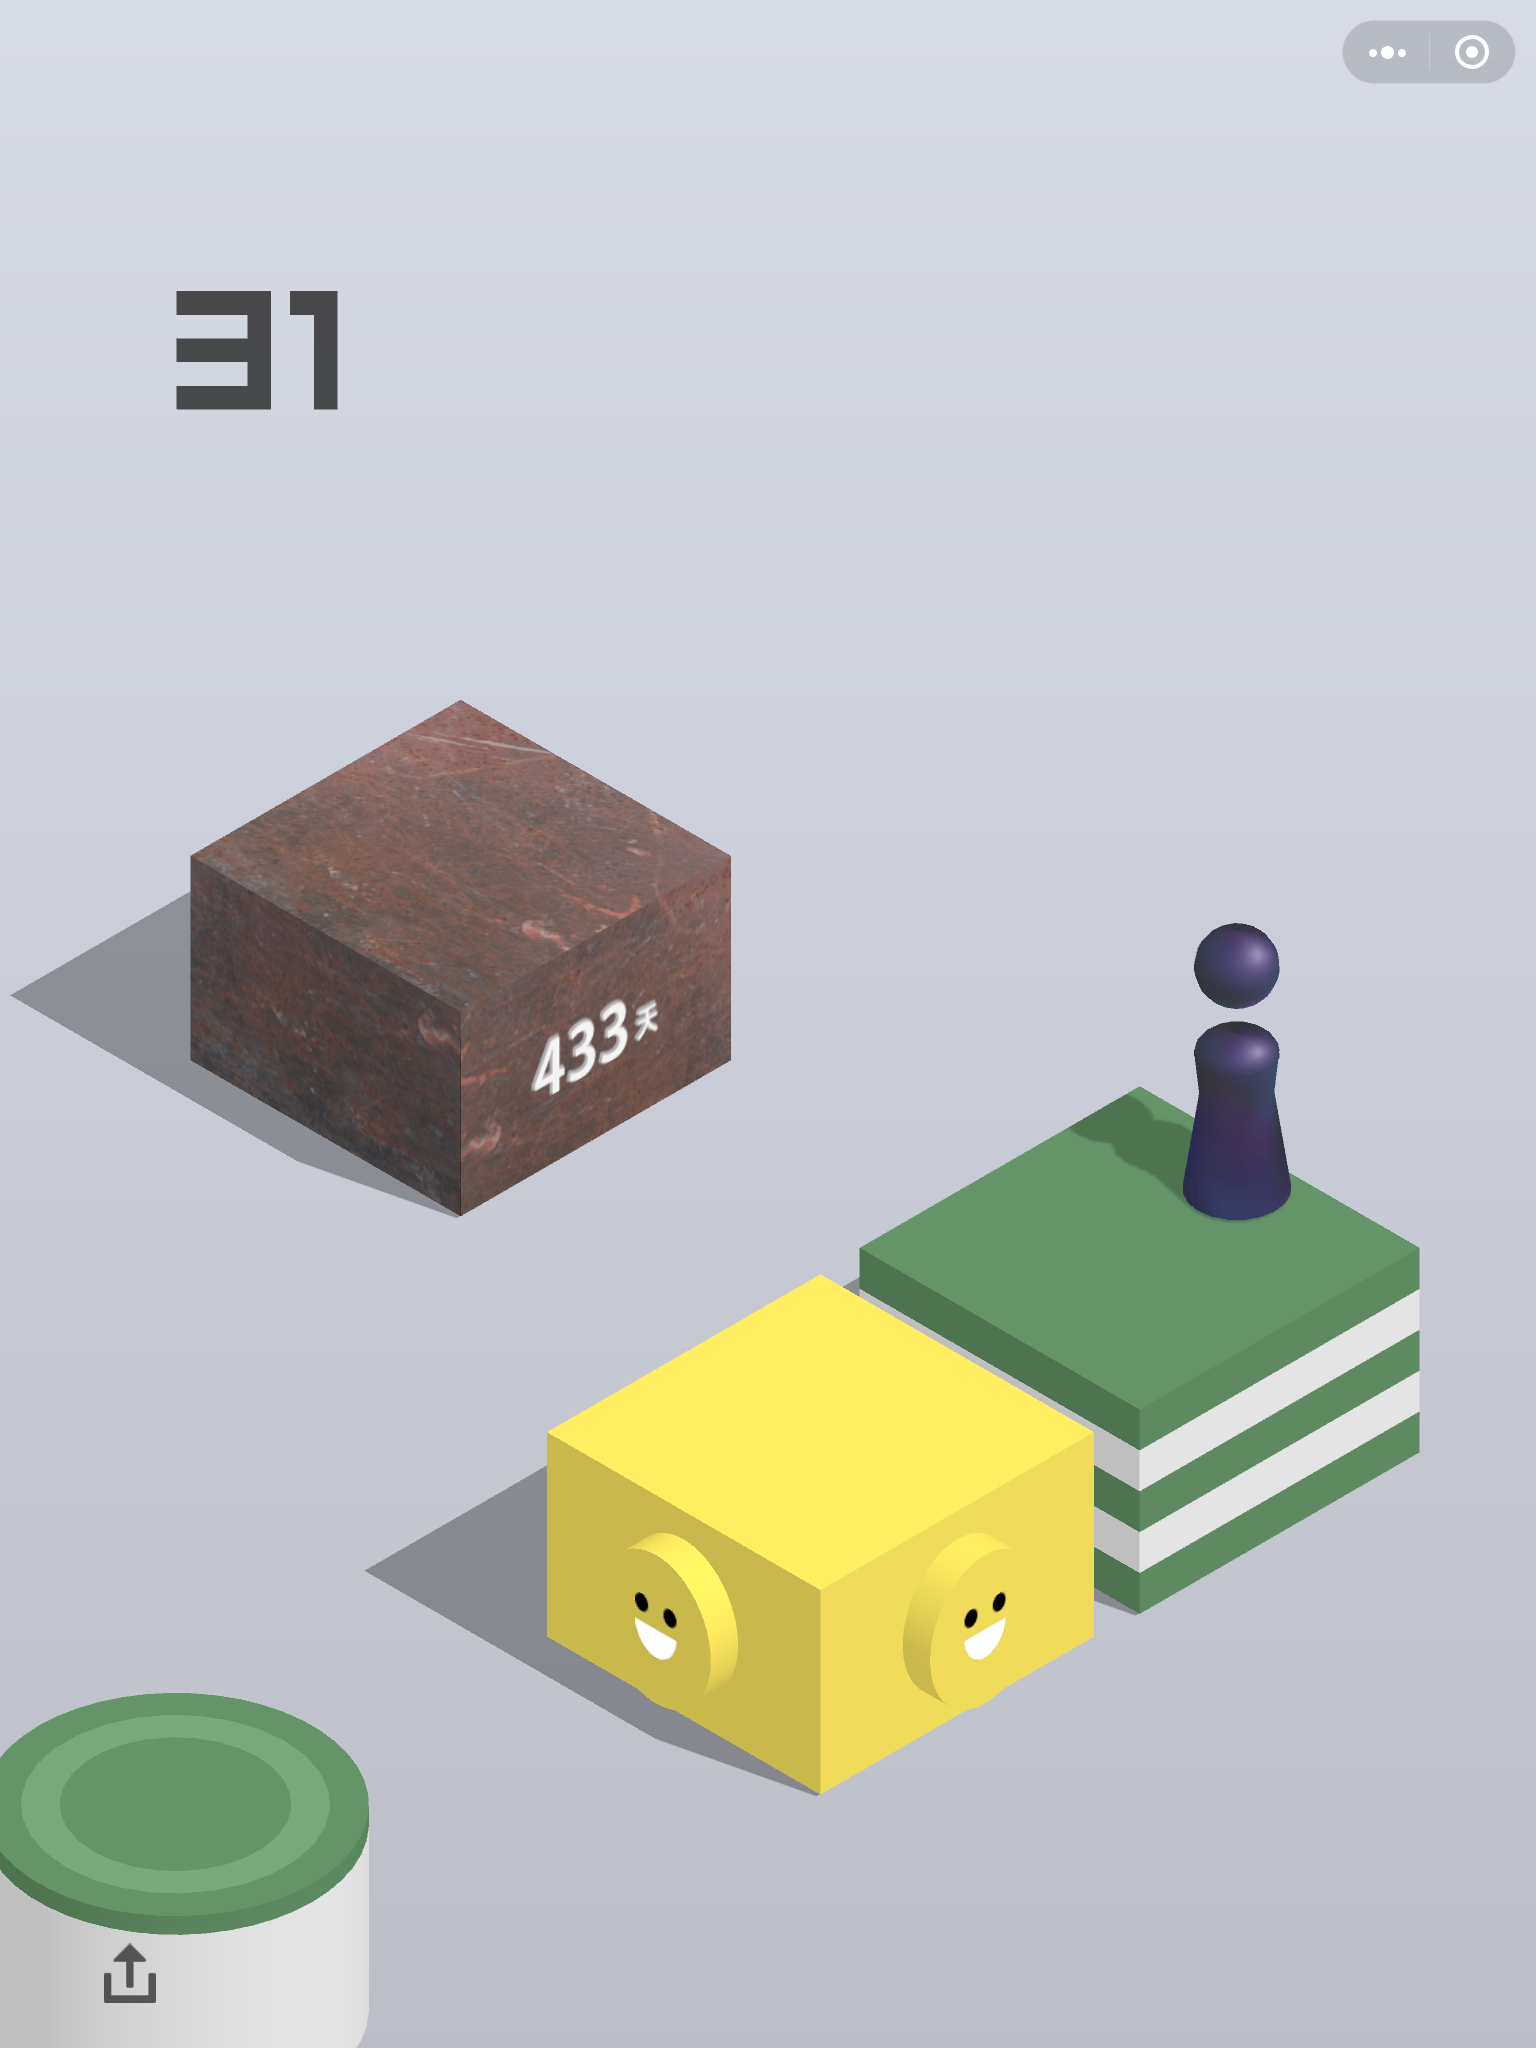c: (2, 1687, 374, 2046)
f: (855, 1084, 1426, 1619), (545, 1271, 1100, 1796), (187, 698, 736, 1219)
r: (1179, 919, 1297, 1226)
